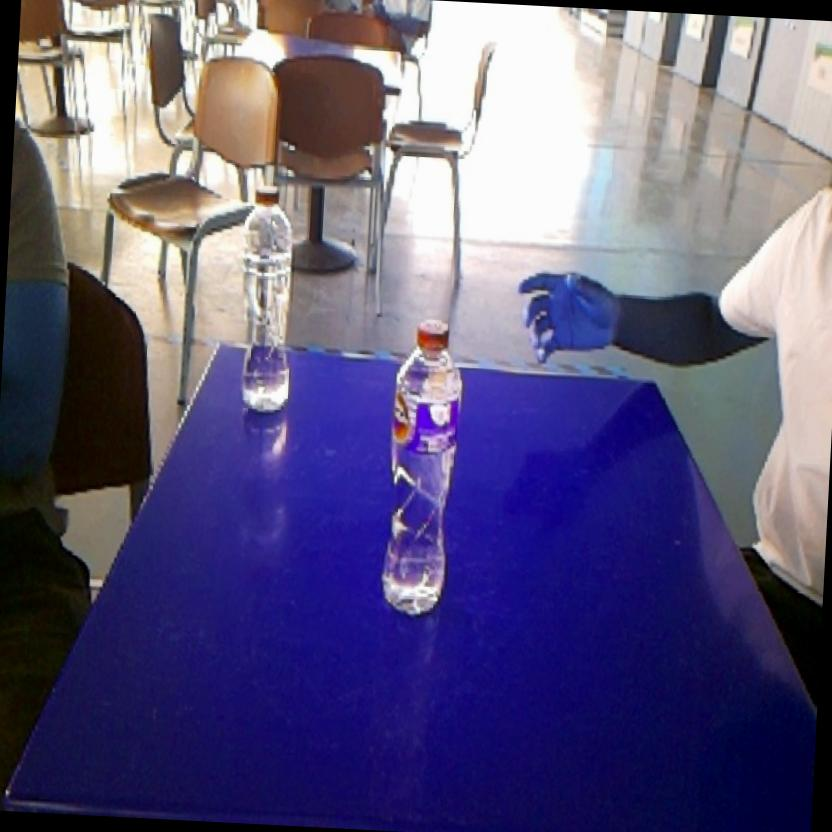good: (366, 309, 476, 628)
no_label: (220, 178, 310, 430)
